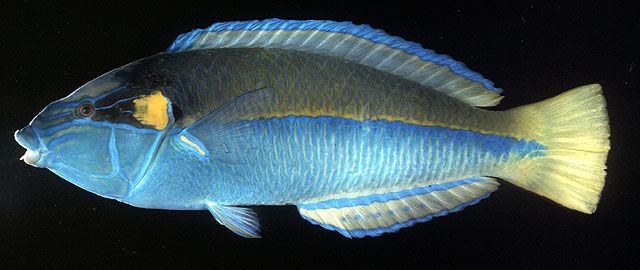fish: (15, 20, 612, 237)
